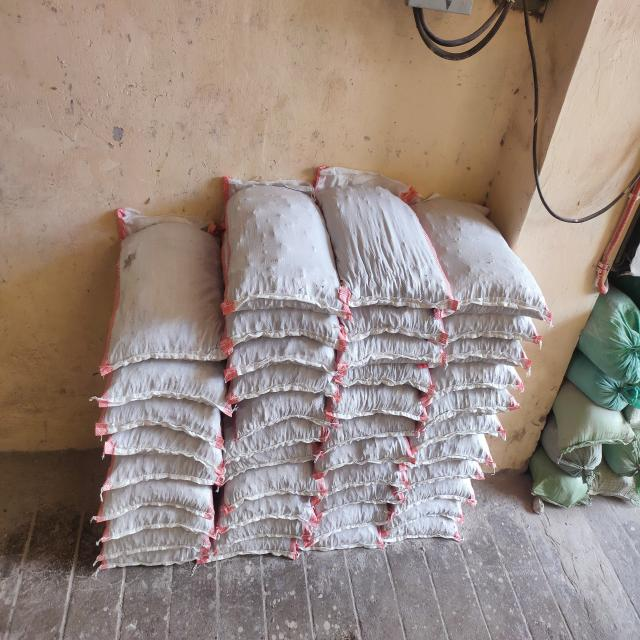Gravel: (335, 169, 444, 306), (113, 230, 227, 360), (225, 181, 335, 303), (435, 198, 548, 310), (100, 424, 228, 461), (102, 364, 230, 400), (99, 398, 227, 434), (102, 457, 224, 492), (97, 481, 219, 516), (103, 501, 223, 530), (98, 524, 218, 553), (339, 310, 446, 339), (340, 337, 447, 366), (337, 360, 436, 390), (334, 387, 433, 417), (329, 412, 428, 442), (324, 433, 415, 464), (319, 461, 410, 492), (95, 546, 210, 570), (238, 308, 331, 336), (223, 466, 316, 493), (225, 421, 318, 448), (223, 495, 316, 521), (224, 442, 317, 468), (240, 394, 333, 420), (236, 367, 329, 393), (236, 334, 329, 360), (447, 341, 533, 368), (448, 316, 535, 342), (319, 482, 407, 506), (318, 502, 406, 526), (211, 536, 298, 560), (214, 517, 301, 541), (389, 518, 470, 542), (324, 528, 405, 551), (432, 391, 506, 415), (431, 417, 505, 440), (441, 366, 515, 389), (421, 434, 490, 458), (394, 497, 463, 520), (407, 479, 476, 502), (412, 459, 481, 482)
